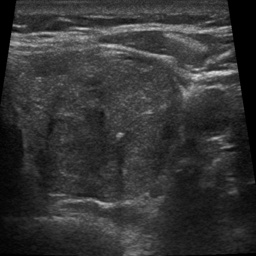mass: (48, 60, 179, 194)
